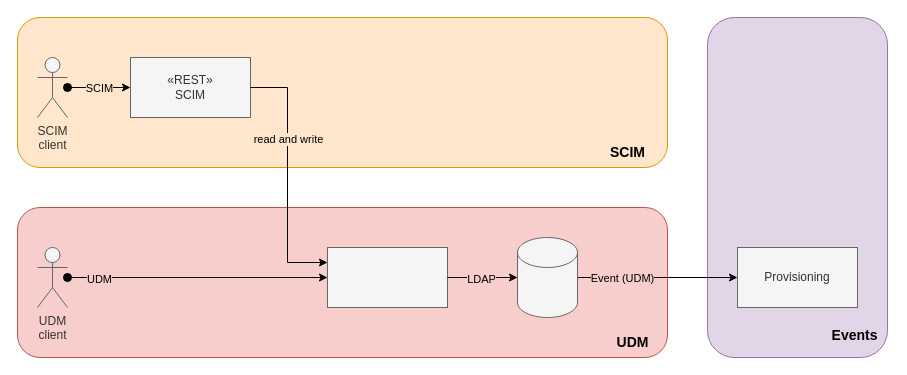
This 907x375 diagram has some shape labels left out. The centre of each missing label's shape, as x and y in pixels:
"Open LDAP" belongs at point 547,277.
"«REST» UDM" belongs at point 387,277.
